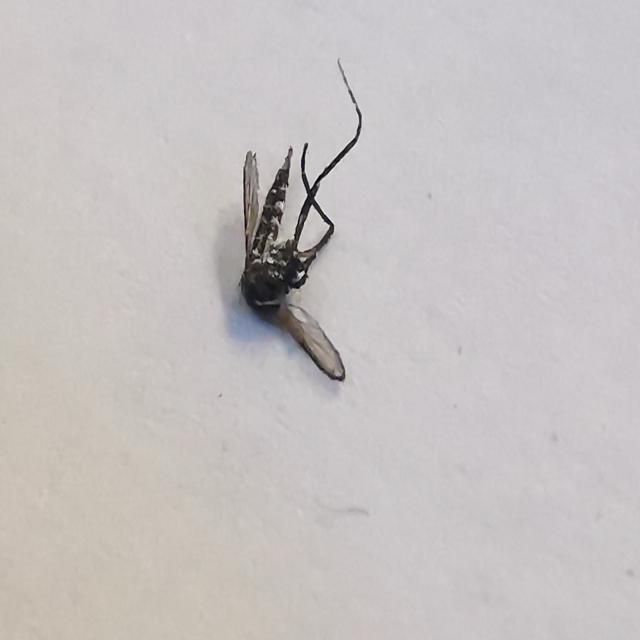albopictus: (225, 60, 370, 376)
